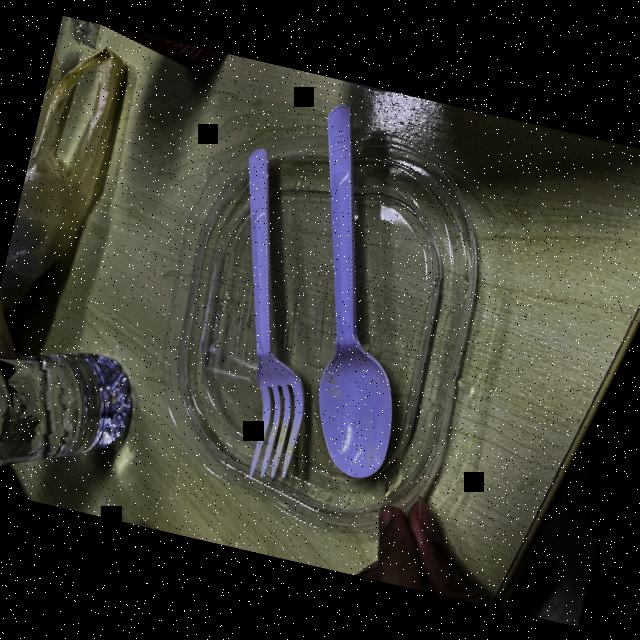plastic_spoon: (241, 84, 464, 498), (168, 140, 364, 498)
